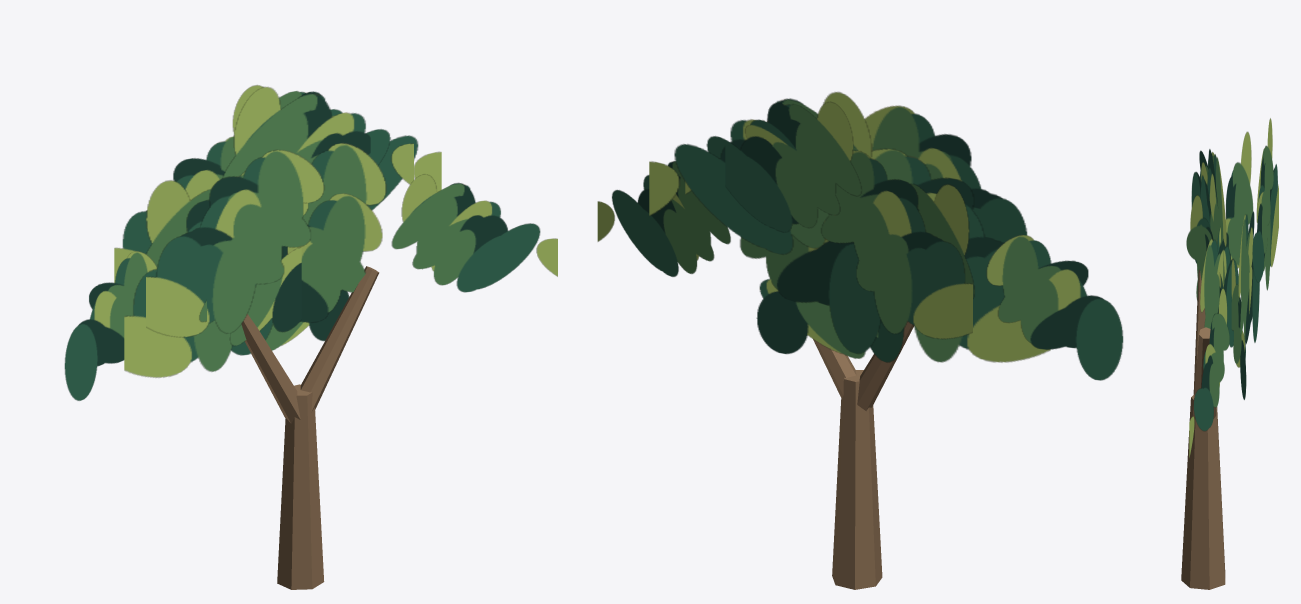
Rendered from TREE_NATIVE_ROUNDED_001_V4_LOD_CLOSE.glb.
3 views of the same model, side by side, from view 1: azimuth 30°, elevation 25°; view 2: azimuth 150°, elevation 25°; view 3: azimuth 270°, elevation 25° (orthographic). The views are drawn at different scales.
Visible parts, largest first — view 1: GG_NATIVE_V4_CLUSTER_07, GG_NATIVE_V4_CLUSTER_10, GG_NATIVE_V4_CLUSTER_02, GG_NATIVE_V4_CLUSTER_05, GG_NATIVE_V4_LOCKED_CARCASS_00, GG_NATIVE_V4_CLUSTER_09, GG_NATIVE_V4_CLUSTER_03, GG_NATIVE_V4_CLUSTER_01, GG_NATIVE_V4_CLUSTER_04, GG_NATIVE_V4_CLUSTER_11, GG_NATIVE_V4_LOCKED_CARCASS_02, GG_NATIVE_V4_CLUSTER_00 (+3 smaller); view 2: GG_NATIVE_V4_CLUSTER_11, GG_NATIVE_V4_CLUSTER_06, GG_NATIVE_V4_CLUSTER_09, GG_NATIVE_V4_CLUSTER_02, GG_NATIVE_V4_LOCKED_CARCASS_00, GG_NATIVE_V4_CLUSTER_03, GG_NATIVE_V4_CLUSTER_01, GG_NATIVE_V4_CLUSTER_10, GG_NATIVE_V4_CLUSTER_07, GG_NATIVE_V4_CLUSTER_08, GG_NATIVE_V4_CLUSTER_00, GG_NATIVE_V4_LOCKED_CARCASS_01 (+2 smaller); view 3: GG_NATIVE_V4_LOCKED_CARCASS_00, GG_NATIVE_V4_CLUSTER_10, GG_NATIVE_V4_CLUSTER_00, GG_NATIVE_V4_CLUSTER_05, GG_NATIVE_V4_CLUSTER_01, GG_NATIVE_V4_CLUSTER_06, GG_NATIVE_V4_CLUSTER_03, GG_NATIVE_V4_CLUSTER_04, GG_NATIVE_V4_CLUSTER_08, GG_NATIVE_V4_CLUSTER_11, GG_NATIVE_V4_LOCKED_CARCASS_02, GG_NATIVE_V4_CLUSTER_09 (+1 smaller).
Part boxes in pixels (<box>): GG_NATIVE_V4_CLUSTER_07: <box>146,149,324,337</box>; GG_NATIVE_V4_CLUSTER_10: <box>391,174,557,292</box>; GG_NATIVE_V4_CLUSTER_02: <box>222,86,441,210</box>; GG_NATIVE_V4_CLUSTER_05: <box>231,193,382,355</box>; GG_NATIVE_V4_LOCKED_CARCASS_00: <box>277,384,324,589</box>; GG_NATIVE_V4_CLUSTER_09: <box>64,251,156,400</box>; GG_NATIVE_V4_CLUSTER_03: <box>124,171,308,377</box>; GG_NATIVE_V4_CLUSTER_01: <box>302,143,386,251</box>; GG_NATIVE_V4_CLUSTER_04: <box>199,246,301,346</box>; GG_NATIVE_V4_CLUSTER_11: <box>114,136,236,282</box>; GG_NATIVE_V4_LOCKED_CARCASS_02: <box>300,266,379,411</box>; GG_NATIVE_V4_CLUSTER_00: <box>146,180,287,267</box>; GG_NATIVE_V4_CLUSTER_11: <box>821,150,972,339</box>; GG_NATIVE_V4_CLUSTER_06: <box>685,101,861,232</box>; GG_NATIVE_V4_CLUSTER_09: <box>986,235,1123,380</box>; GG_NATIVE_V4_CLUSTER_02: <box>649,92,872,254</box>; GG_NATIVE_V4_LOCKED_CARCASS_00: <box>832,370,882,589</box>; GG_NATIVE_V4_CLUSTER_03: <box>870,148,1050,362</box>; GG_NATIVE_V4_CLUSTER_01: <box>740,234,880,353</box>; GG_NATIVE_V4_CLUSTER_10: <box>597,161,730,276</box>; GG_NATIVE_V4_CLUSTER_07: <box>864,105,1038,242</box>; GG_NATIVE_V4_CLUSTER_08: <box>756,279,878,358</box>; GG_NATIVE_V4_CLUSTER_00: <box>910,183,974,298</box>; GG_NATIVE_V4_LOCKED_CARCASS_01: <box>857,321,913,410</box>; GG_NATIVE_V4_LOCKED_CARCASS_00: <box>1181,395,1225,589</box>; GG_NATIVE_V4_CLUSTER_10: <box>1189,288,1229,458</box>; GG_NATIVE_V4_CLUSTER_00: <box>1217,131,1253,268</box>; GG_NATIVE_V4_CLUSTER_05: <box>1200,233,1238,347</box>; GG_NATIVE_V4_CLUSTER_01: <box>1238,211,1259,343</box>; GG_NATIVE_V4_CLUSTER_06: <box>1249,118,1273,313</box>; GG_NATIVE_V4_CLUSTER_03: <box>1201,149,1226,285</box>; GG_NATIVE_V4_CLUSTER_04: <box>1186,195,1222,300</box>; GG_NATIVE_V4_CLUSTER_08: <box>1231,259,1246,399</box>; GG_NATIVE_V4_CLUSTER_11: <box>1256,145,1278,290</box>; GG_NATIVE_V4_LOCKED_CARCASS_02: <box>1192,327,1216,418</box>; GG_NATIVE_V4_CLUSTER_09: <box>1191,150,1214,206</box>.
Size of the model in its own units: 7.15 by 6.93 by 1.62.
Materials: 2 (1 with a texture image).
